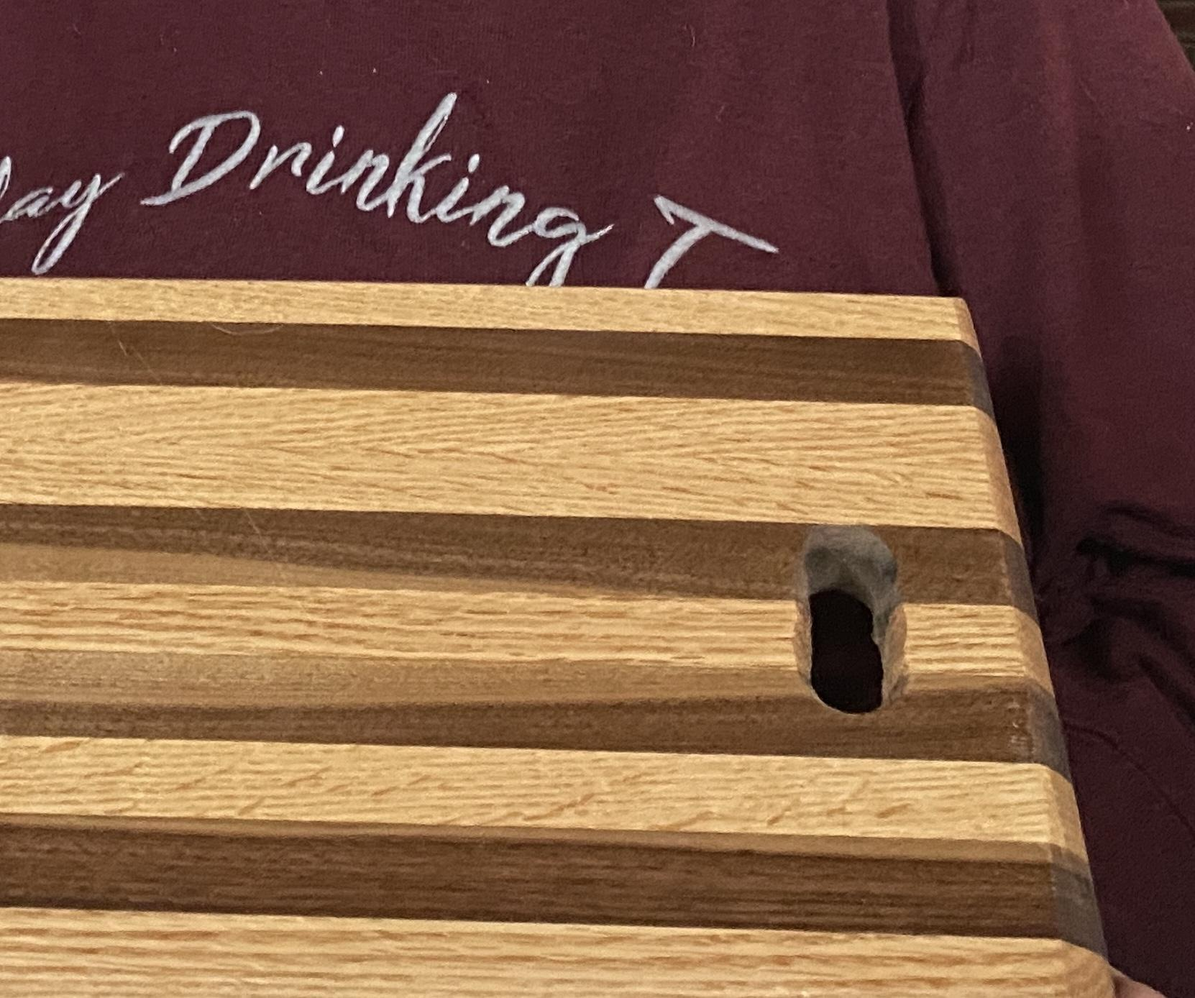gloved_hand: (3, 264, 1123, 998)
